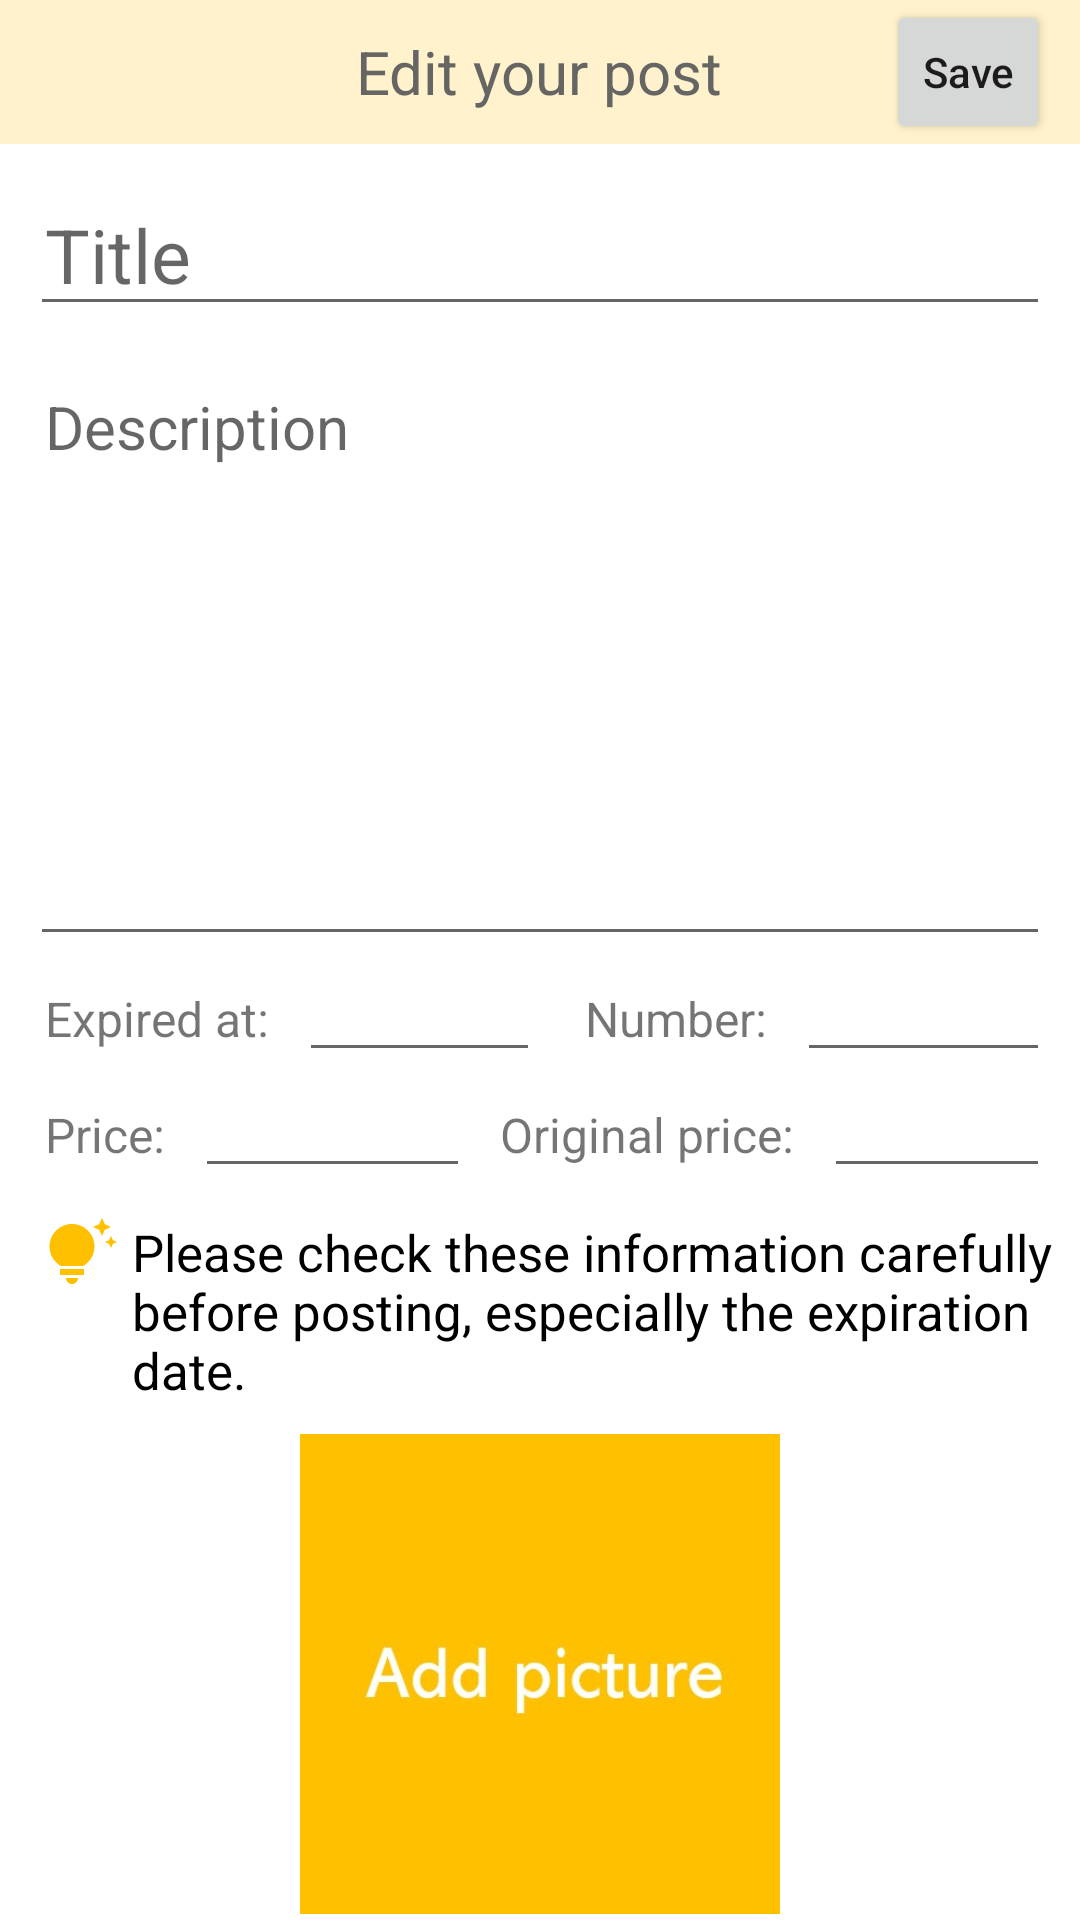

Icons on this 1080x1920 Android screen, each with the point to tap as (x=x, y=y):
tips: (x=83, y=1251)
